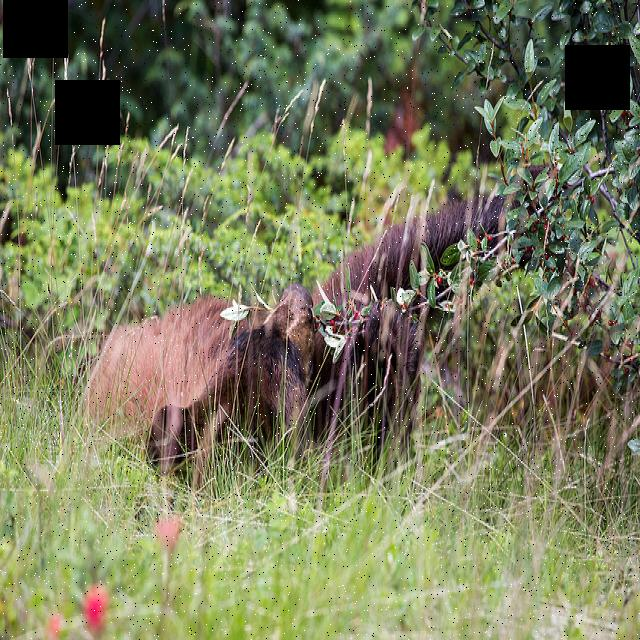Bear: (75, 282, 319, 501)
